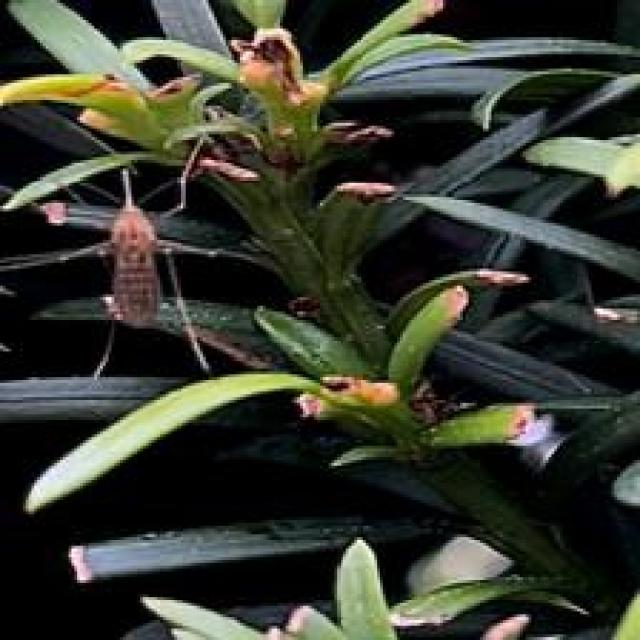Culex: (0, 150, 269, 379)
